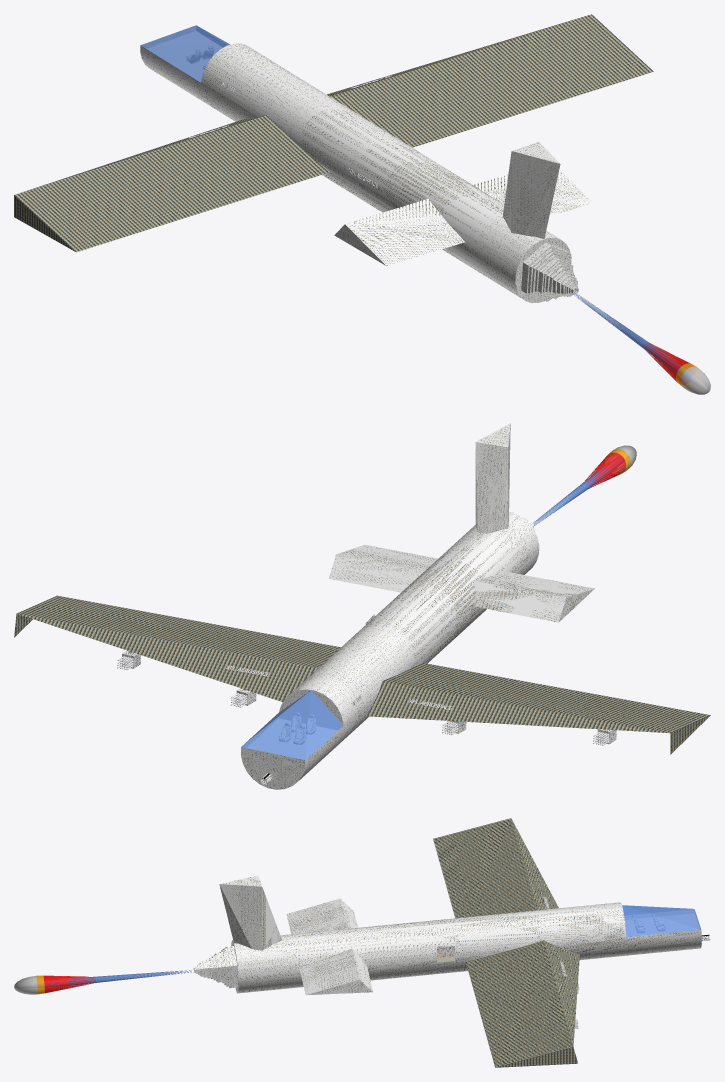
3 renders of one model, top to bottom at view 1: azimuth 30°, elevation 25°; view 2: azimuth 150°, elevation 25°; view 3: azimuth 270°, elevation 25°, orthographic. The views are drawn at different scales.
Visible parts, largest first — view 1: mesh63_mesh63-geometry, mesh60_mesh60-geometry, mesh61_mesh61-geometry, mesh62_mesh62-geometry, mesh66_mesh66-geometry, mesh35_mesh35-geometry, mesh36_mesh36-geometry; view 2: mesh63_mesh63-geometry, mesh61_mesh61-geometry, mesh60_mesh60-geometry, mesh62_mesh62-geometry, mesh66_mesh66-geometry, mesh35_mesh35-geometry, mesh36_mesh36-geometry; view 3: mesh63_mesh63-geometry, mesh61_mesh61-geometry, mesh60_mesh60-geometry, mesh62_mesh62-geometry, mesh66_mesh66-geometry, mesh35_mesh35-geometry, mesh36_mesh36-geometry.
Part boxes in pixels (<box>): mesh63_mesh63-geometry: <box>140,25,578,303</box>; mesh60_mesh60-geometry: <box>14,115,329,252</box>; mesh61_mesh61-geometry: <box>327,14,653,147</box>; mesh62_mesh62-geometry: <box>334,169,592,265</box>; mesh66_mesh66-geometry: <box>502,141,560,238</box>; mesh35_mesh35-geometry: <box>643,343,710,394</box>; mesh36_mesh36-geometry: <box>572,292,686,375</box>; mesh63_mesh63-geometry: <box>241,511,539,789</box>; mesh61_mesh61-geometry: <box>14,595,340,702</box>; mesh60_mesh60-geometry: <box>366,662,710,754</box>; mesh62_mesh62-geometry: <box>328,544,594,622</box>; mesh66_mesh66-geometry: <box>475,423,510,533</box>; mesh35_mesh35-geometry: <box>585,445,636,488</box>; mesh36_mesh36-geometry: <box>532,453,628,526</box>; mesh63_mesh63-geometry: <box>193,902,710,993</box>; mesh61_mesh61-geometry: <box>466,940,579,1067</box>; mesh60_mesh60-geometry: <box>433,818,558,918</box>; mesh62_mesh62-geometry: <box>286,898,373,995</box>; mesh66_mesh66-geometry: <box>219,875,281,950</box>; mesh35_mesh35-geometry: <box>14,975,95,994</box>; mesh36_mesh36-geometry: <box>37,970,194,987</box>.
Size of the model in its own units: 0.6143 by 0.1345 by 0.7775.
